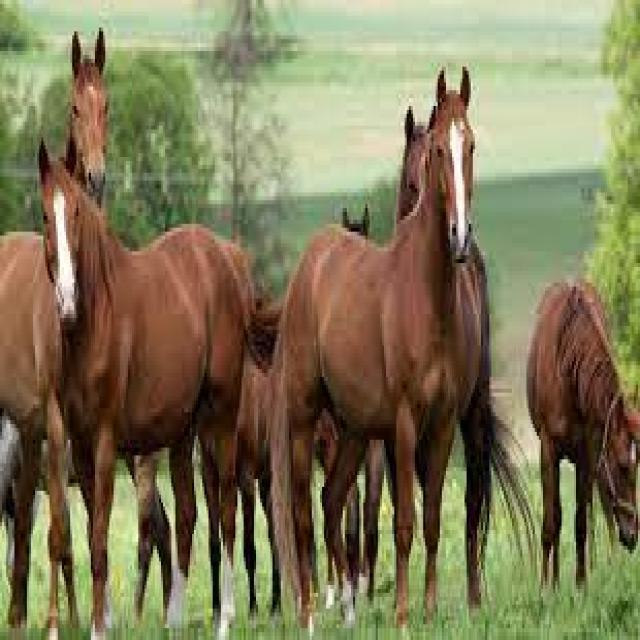horse-standing: (33, 130, 256, 634), (284, 69, 478, 633), (525, 272, 640, 620), (66, 25, 119, 198)
